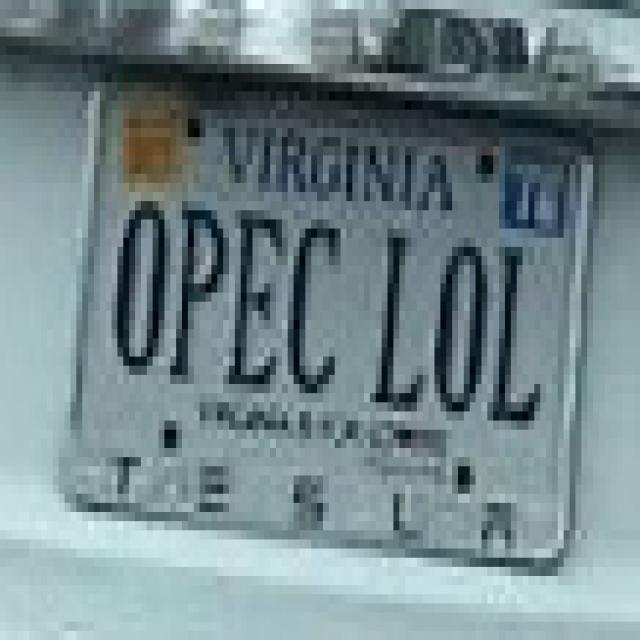0: (106, 175, 164, 384), (433, 231, 489, 430)
C: (293, 202, 351, 408)
E: (230, 186, 282, 402)
L: (373, 207, 431, 432), (488, 228, 546, 448)
P: (168, 183, 233, 387)
